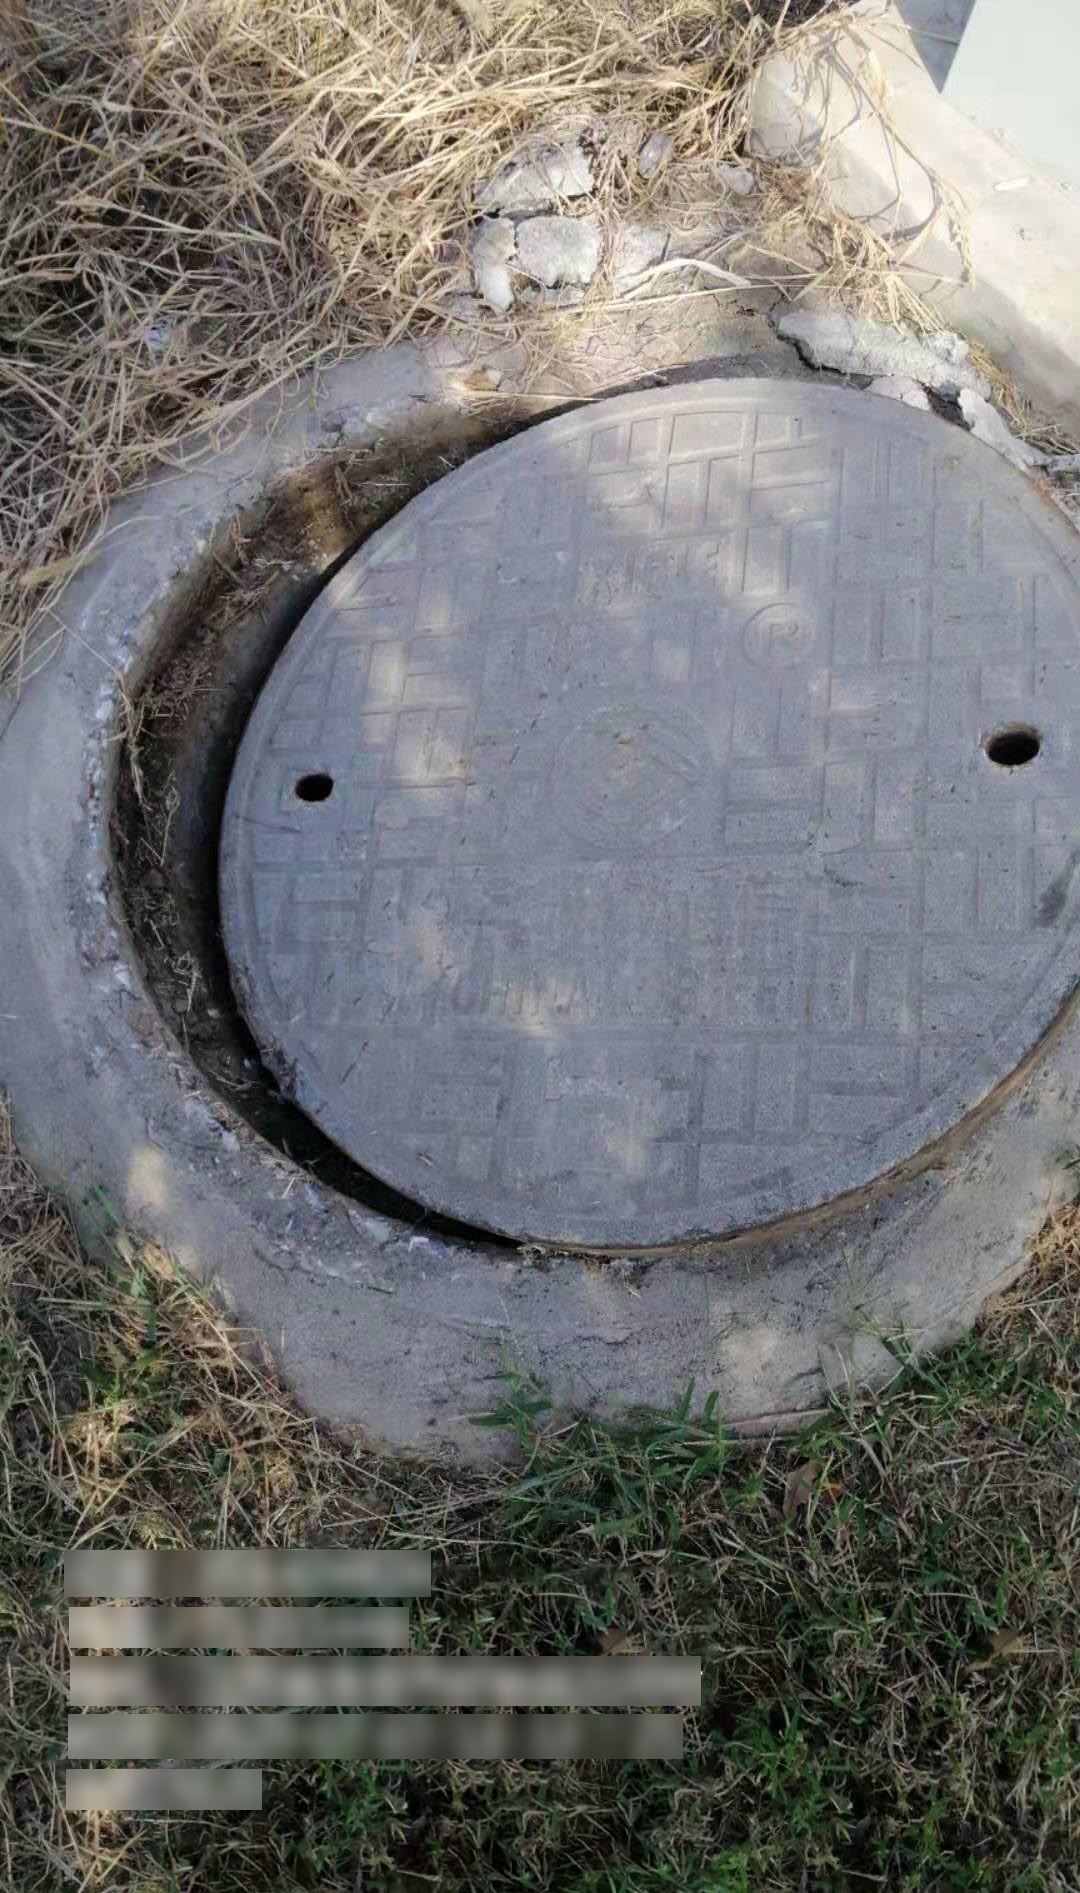uncovered: (74, 359, 1076, 1314)
